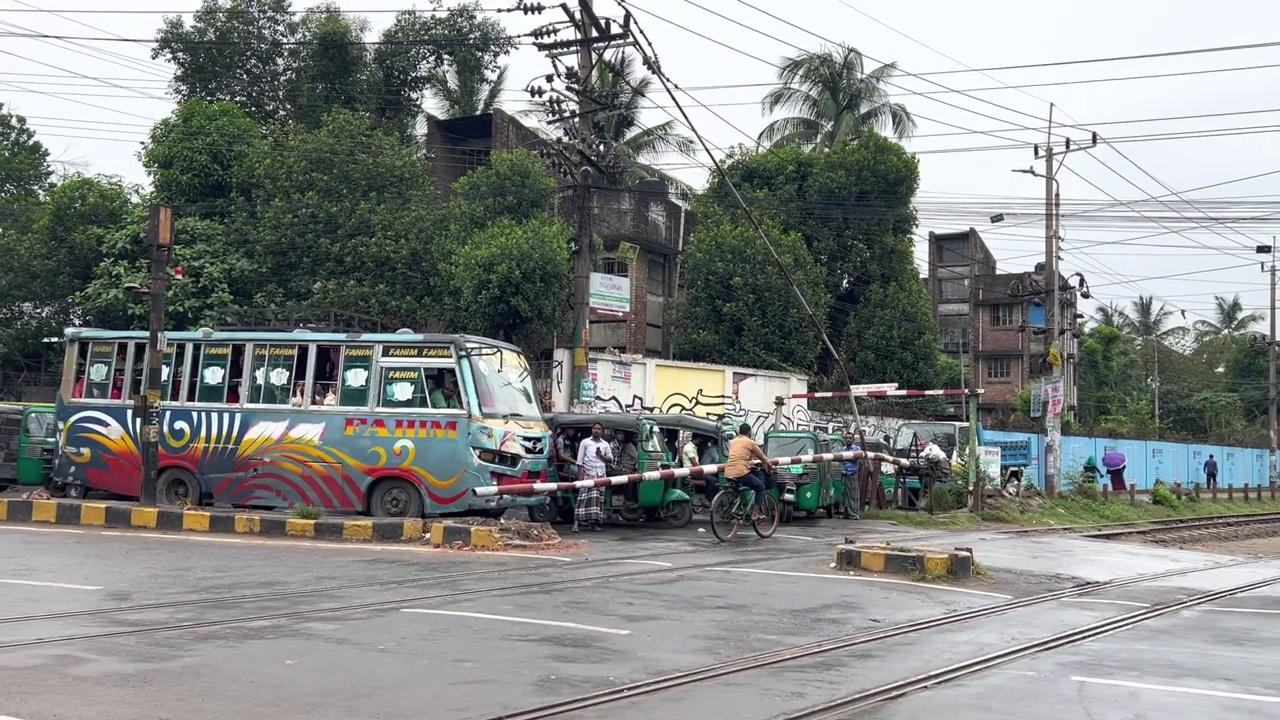Car: (0, 496, 568, 560)
Fence: (724, 422, 775, 522), (571, 421, 613, 532), (838, 431, 864, 519), (1203, 453, 1218, 489)
Garbage: (136, 202, 174, 506)
Motorcycle: (482, 554, 1278, 717)
Rickshaw: (47, 324, 559, 519), (761, 382, 984, 517), (538, 404, 735, 527)
